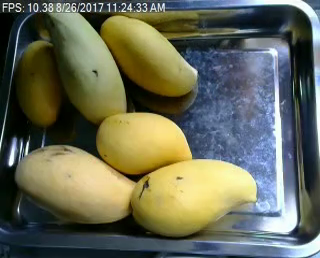Mango: (40, 0, 126, 121), (130, 159, 259, 236), (14, 145, 135, 222), (104, 16, 200, 97), (98, 111, 192, 174), (18, 40, 66, 124)
